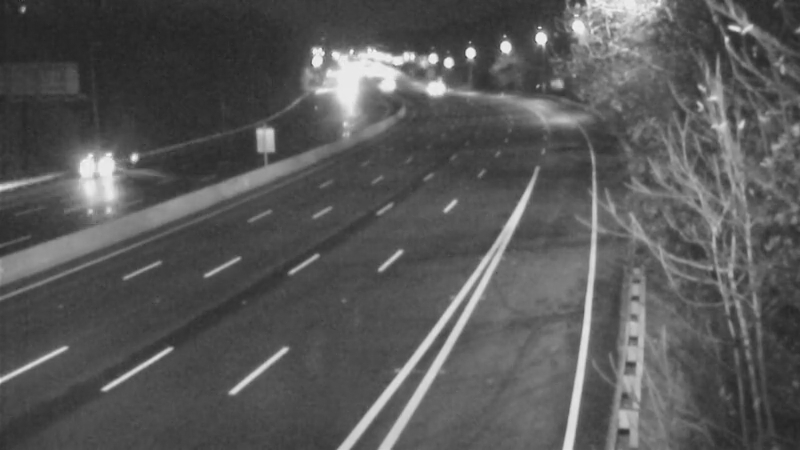vehicle: (54, 135, 134, 215), (359, 58, 409, 108), (402, 60, 452, 110)
